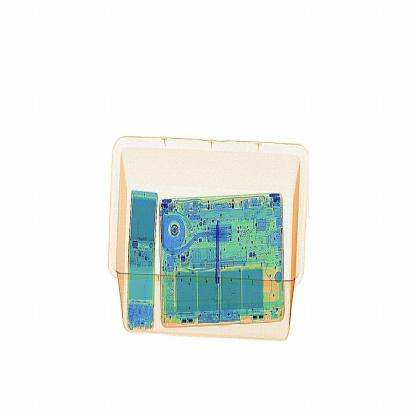pliers: (205, 216, 226, 288)
